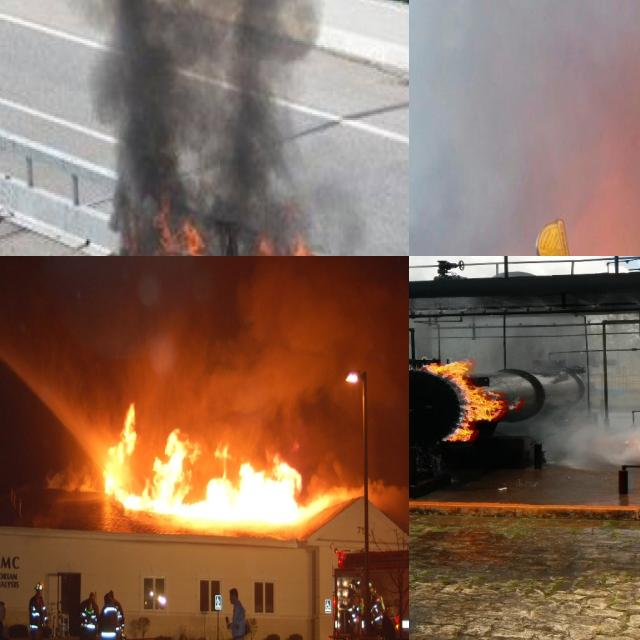fire: (100, 406, 336, 526), (88, 196, 357, 256), (422, 355, 508, 446)
smoke: (0, 0, 318, 256), (409, 0, 640, 256), (122, 256, 399, 437)
